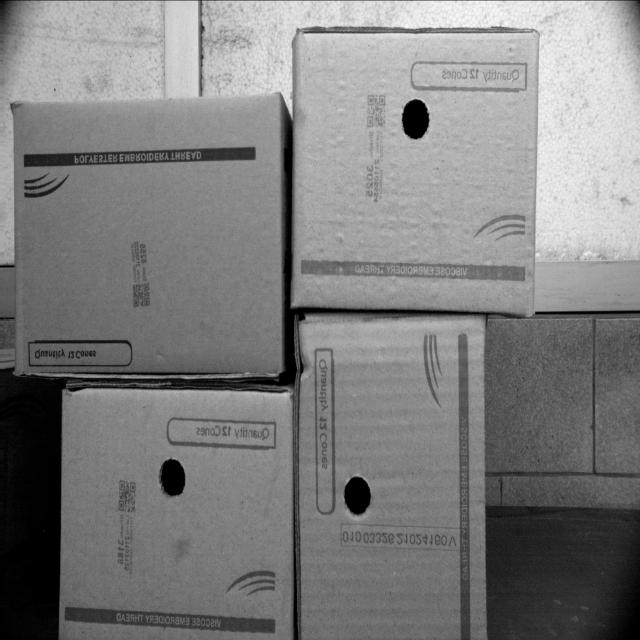cardboxes: (13, 93, 282, 380), (286, 26, 534, 315), (297, 321, 487, 639), (57, 389, 294, 639)
